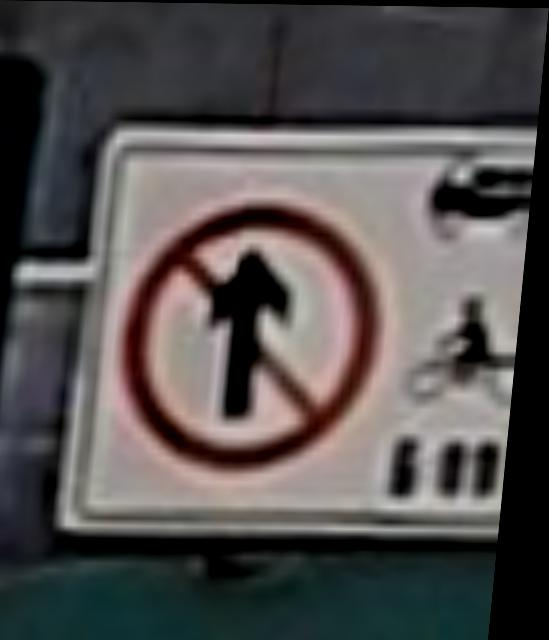not_go_straight: (123, 195, 405, 470)
